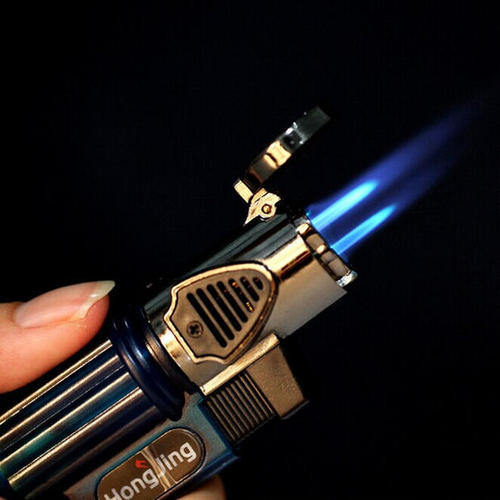fire: (291, 153, 434, 266)
